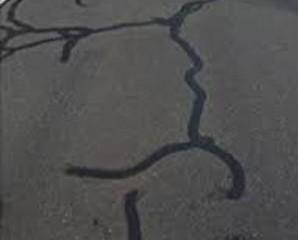crack: (5, 1, 249, 201)
